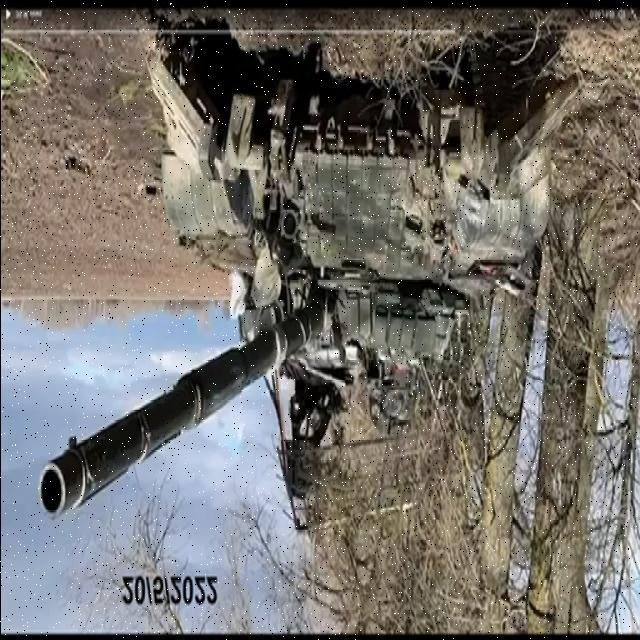TANK: (44, 20, 562, 529)
